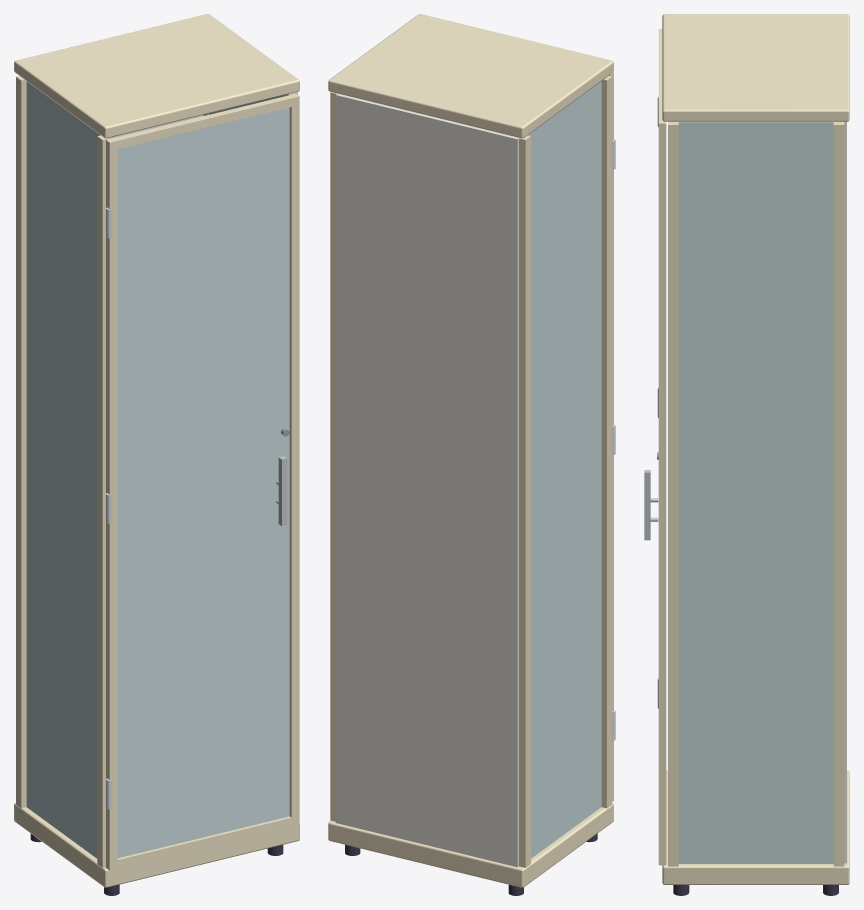
File: vitrine.glb
3 renders of one model, left to right at view 1: azimuth 30°, elevation 25°; view 2: azimuth 150°, elevation 25°; view 3: azimuth 270°, elevation 25°, orthographic.
Visible parts, largest first — view 1: vitrine; view 2: vitrine; view 3: vitrine.
Part boxes in pixels (x1,y1,x2,y2): vitrine: (14,14,299,895); vitrine: (328,14,615,895); vitrine: (644,14,849,895).
Size of the model in its own units: 0.43 by 1.63 by 0.384.
